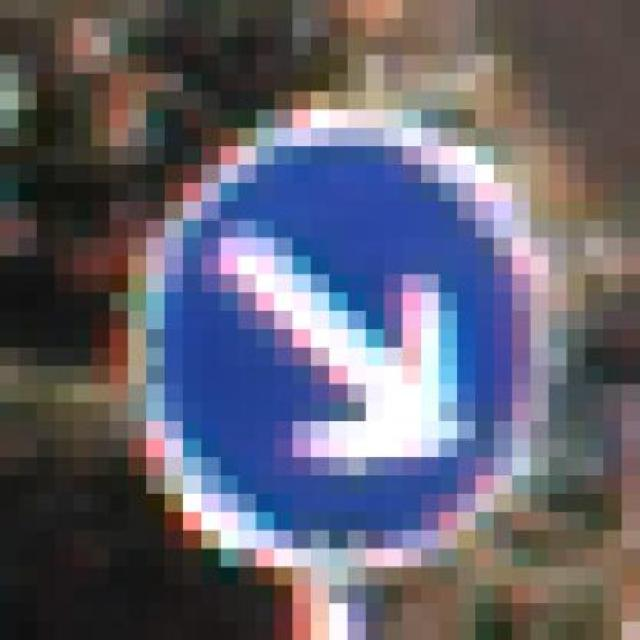Keep-Right: (54, 110, 586, 567)
